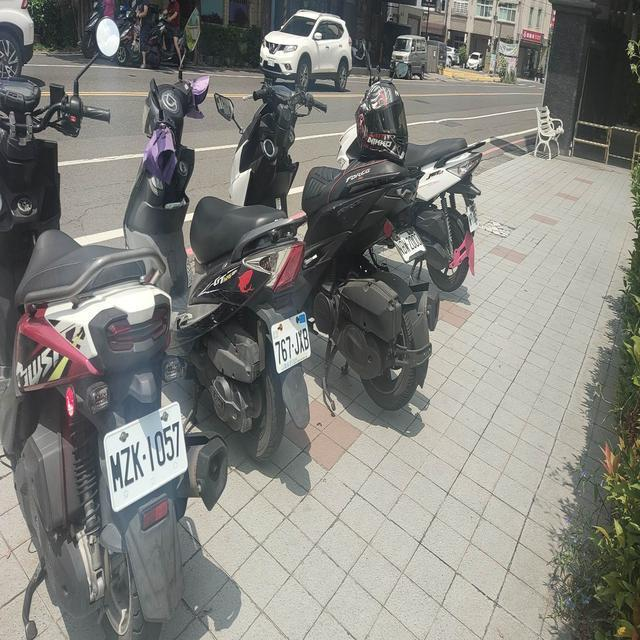plate: (102, 408, 190, 500), (266, 309, 317, 375)
